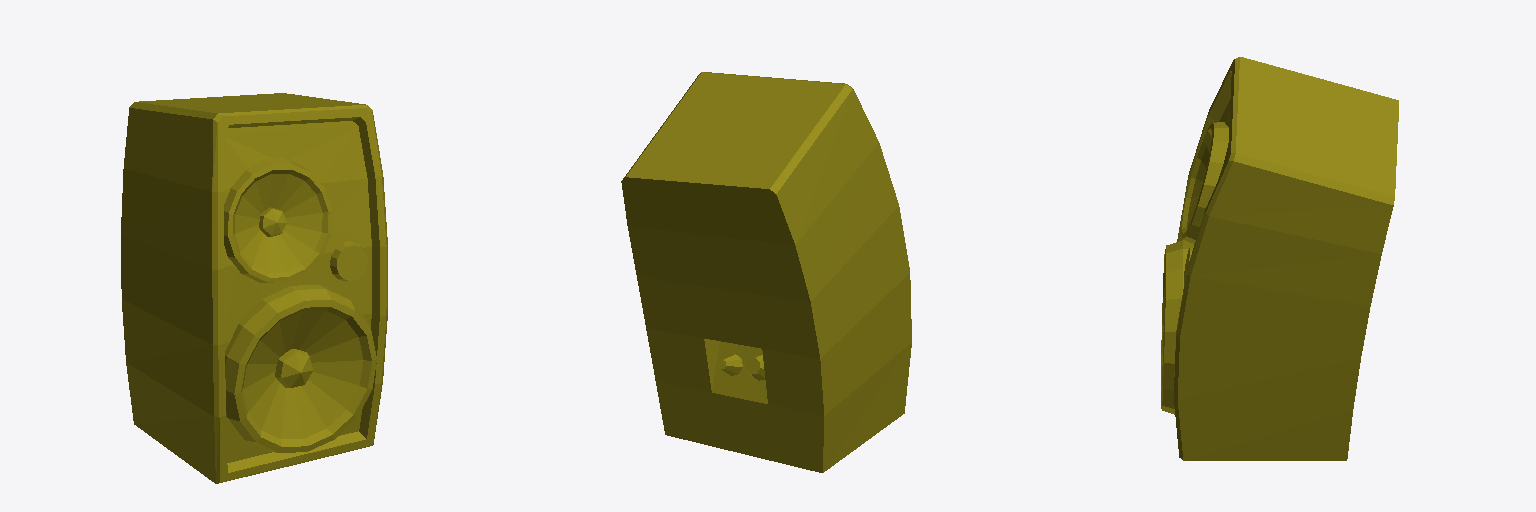
File: LoudSpeaker.obj
The picture shows the model from 3 angles: view 1: azimuth 30°, elevation 25°; view 2: azimuth 150°, elevation 25°; view 3: azimuth 270°, elevation 25°; orthographic projection.
Parts seen in each view (by area): view 1: LoudSpeaker; view 2: LoudSpeaker; view 3: LoudSpeaker.
Part boxes in pixels (x1,y1,x2,y2): LoudSpeaker: (121,93,387,483); LoudSpeaker: (621,72,911,472); LoudSpeaker: (1161,57,1398,460).
Size of the model in its own units: 113 by 198 by 125.